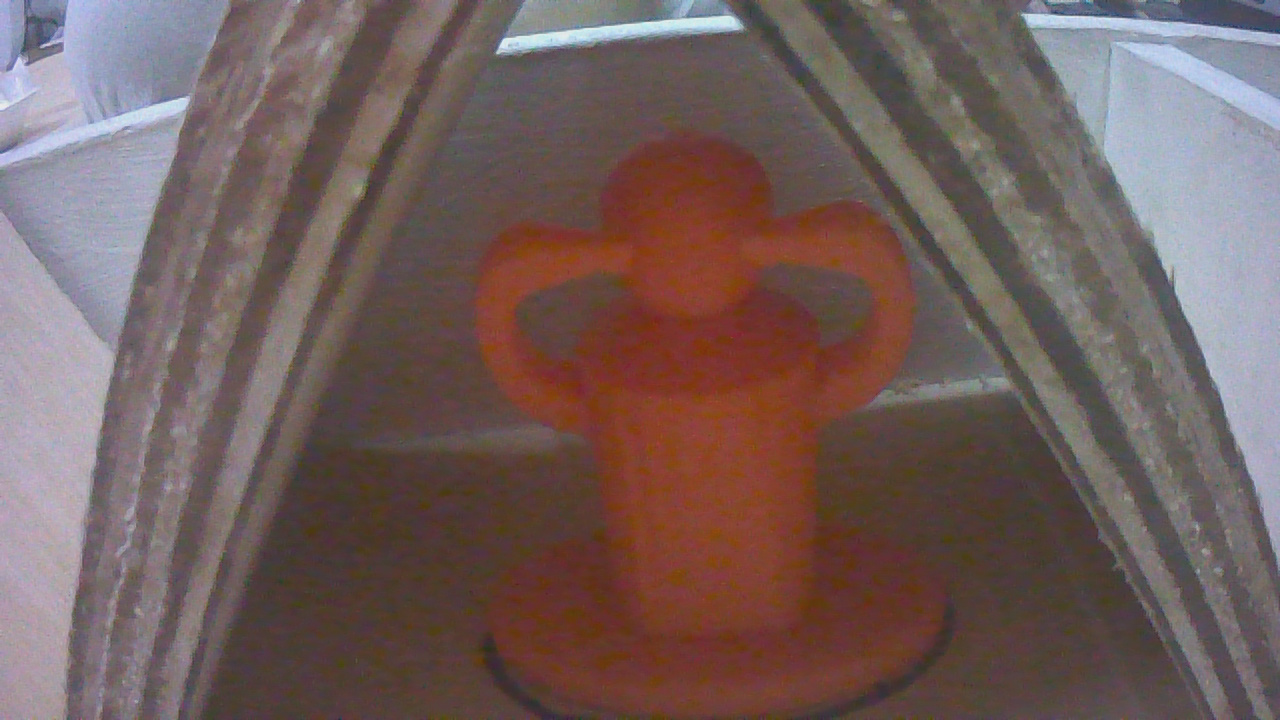real: (439, 108, 952, 720)
